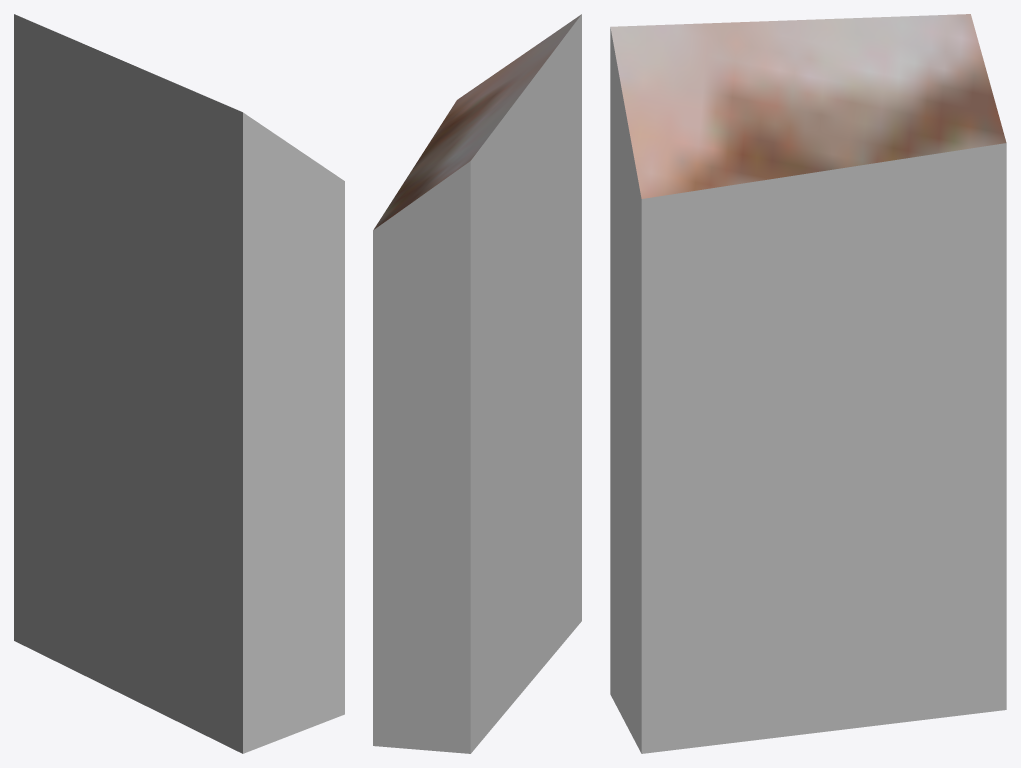
File: DEBW_0010007THvK.gltf
3 renders of one model, left to right at view 1: azimuth 30°, elevation 25°; view 2: azimuth 150°, elevation 25°; view 3: azimuth 270°, elevation 25°, orthographic. The views are drawn at different scales.
Parts seen in each view (by area): view 1: Z_UP; view 2: Z_UP; view 3: Z_UP.
Boxes of the visible parts, x1,y1,x2,y2 form: Z_UP: (14, 14, 344, 753); Z_UP: (373, 14, 581, 753); Z_UP: (610, 14, 1006, 753).
Bounding box in the file's own units: 2.73 × 9.69 × 5.21.
Materials: 2 (1 with a texture image).
